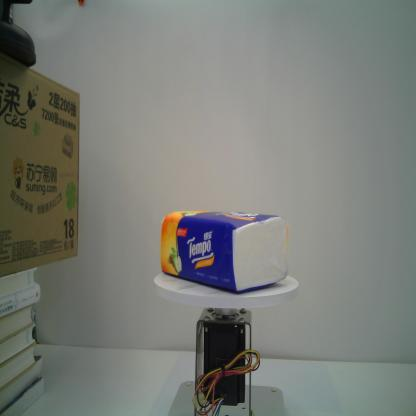Tissue: (155, 200, 291, 297)
